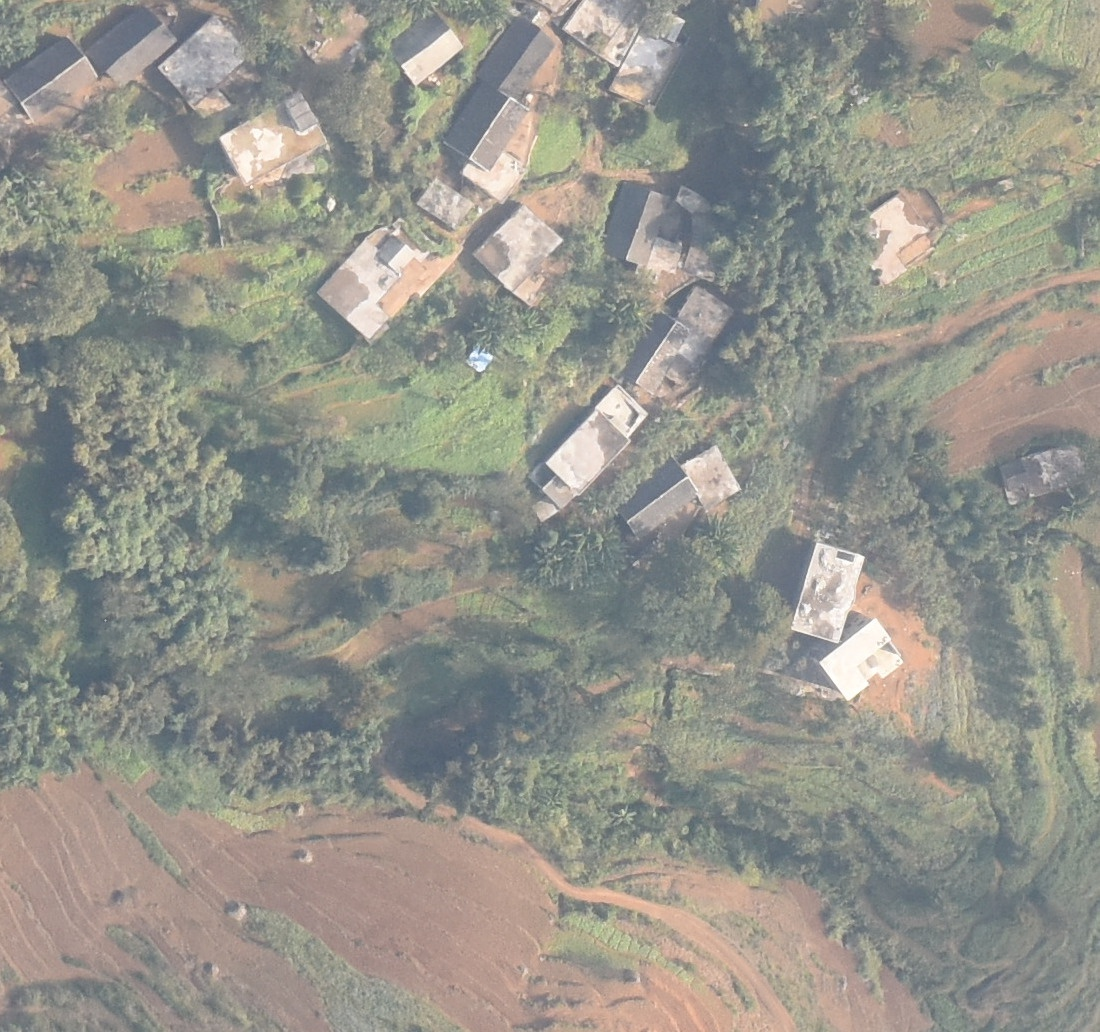building: (541, 384, 653, 509), (217, 91, 332, 189), (319, 229, 413, 341), (160, 16, 258, 111), (610, 12, 697, 109), (3, 36, 100, 122), (845, 195, 936, 284), (814, 612, 903, 702), (444, 83, 532, 174), (475, 204, 562, 294), (793, 539, 866, 645), (86, 6, 180, 85), (664, 283, 734, 384), (475, 16, 555, 101), (998, 441, 1091, 508), (602, 179, 669, 270), (619, 462, 700, 537), (624, 310, 693, 396), (389, 11, 463, 89), (461, 145, 530, 205), (683, 444, 740, 510), (416, 179, 472, 229), (646, 236, 684, 272)
